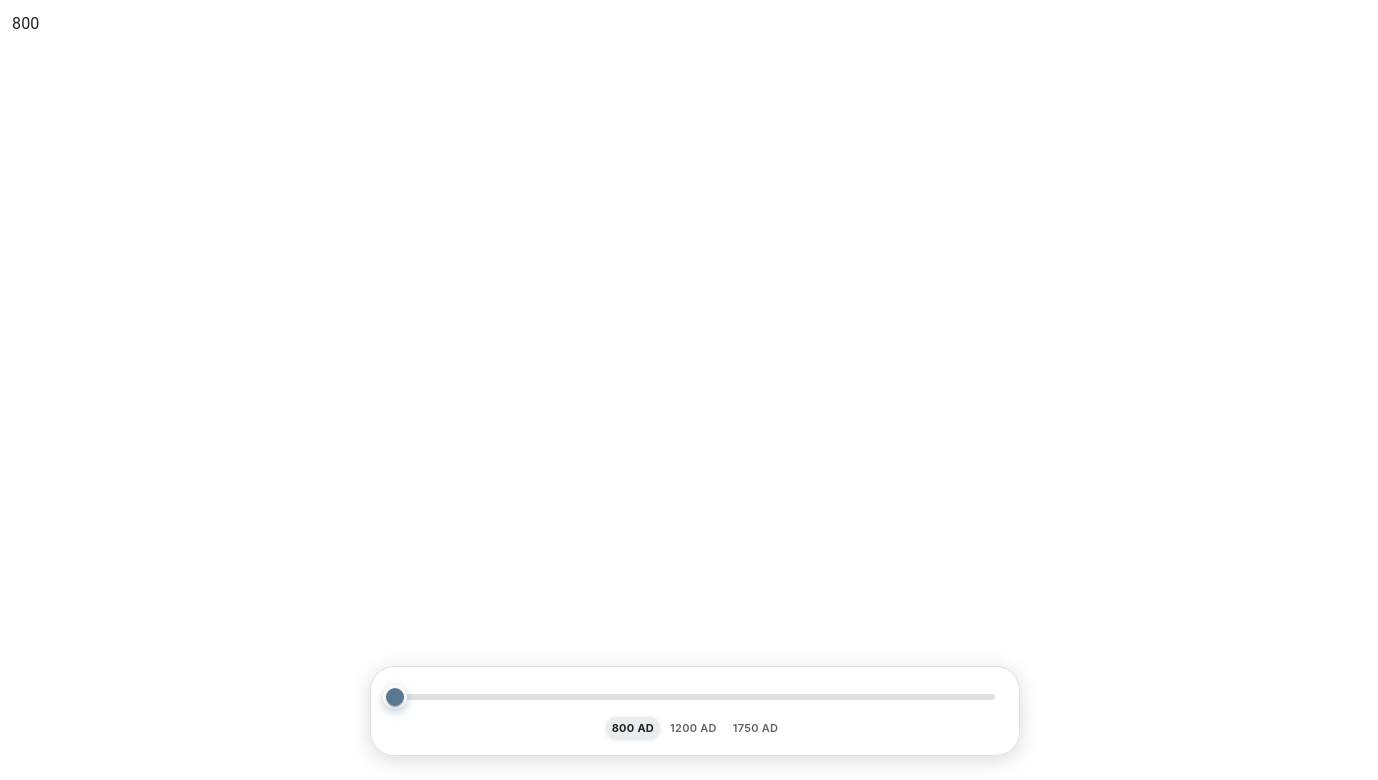
Timeline + App context integration › updates selected year through timeline controls
Expected: the text with test id "selected-year" reads "800", [12,14,39,33]
Click the button "1200 AD".
click(693, 728)  # box [664,717,723,739]
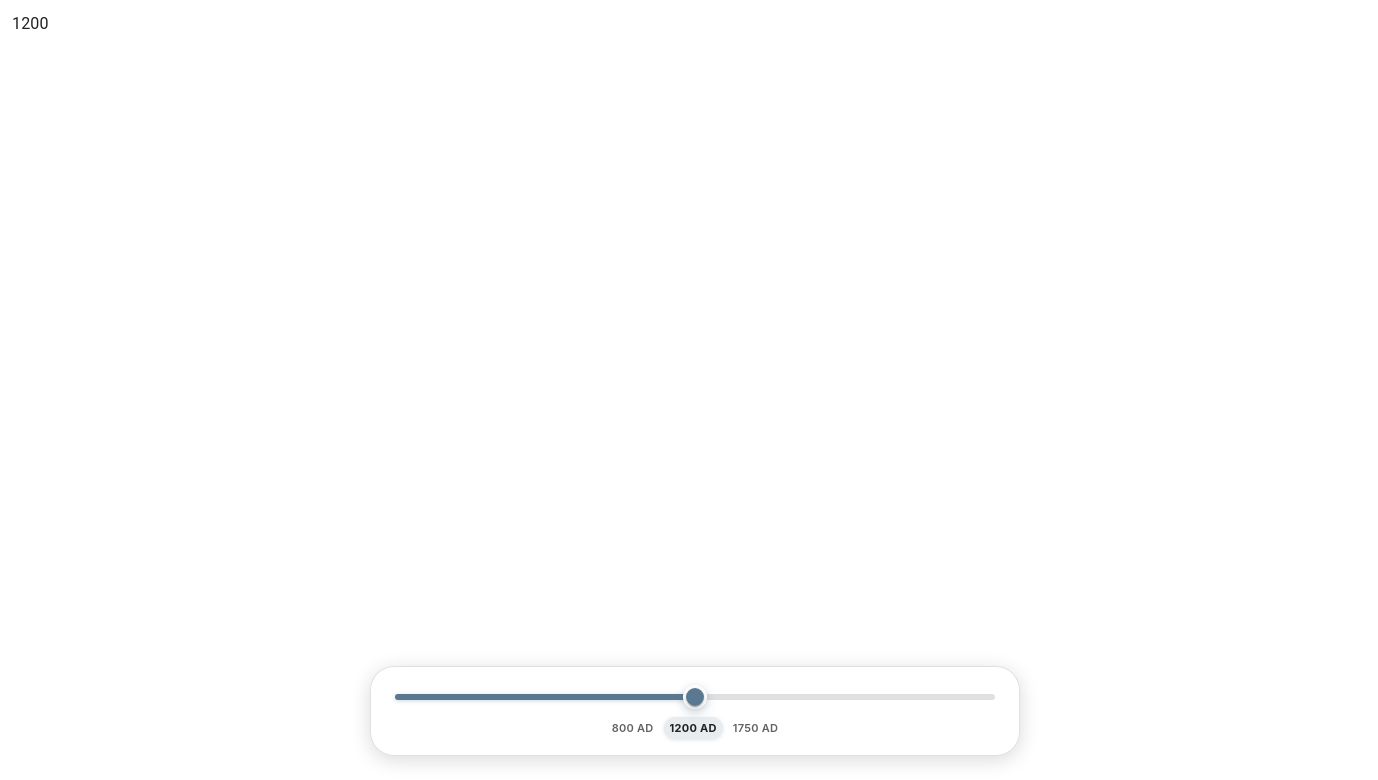
Result: the text with test id "selected-year" reads "1200" at [12,14,49,33]
